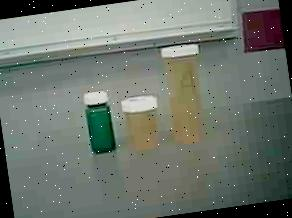Bottle A: (157, 37, 214, 151)
Bottle B: (117, 90, 167, 154)
Bottle C: (78, 85, 121, 157)
